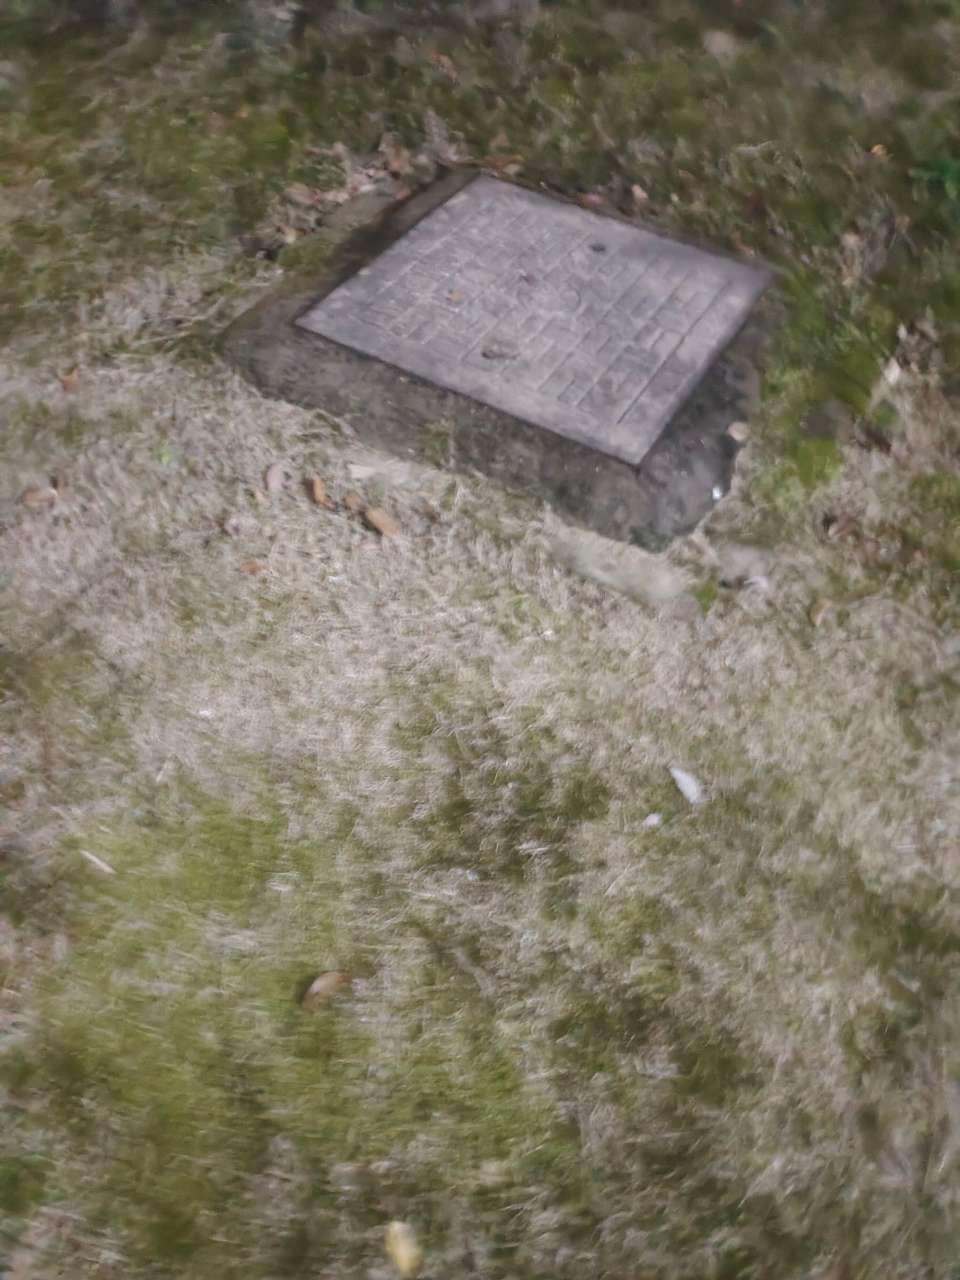wellcover: (206, 131, 812, 553)
